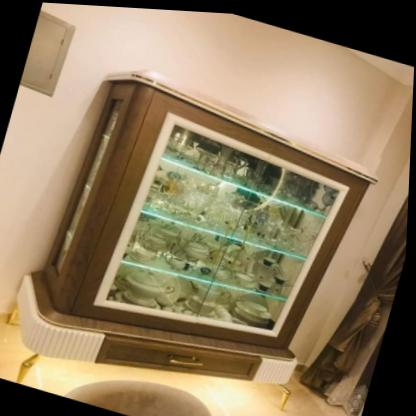Cupboard: (20, 48, 388, 407)
